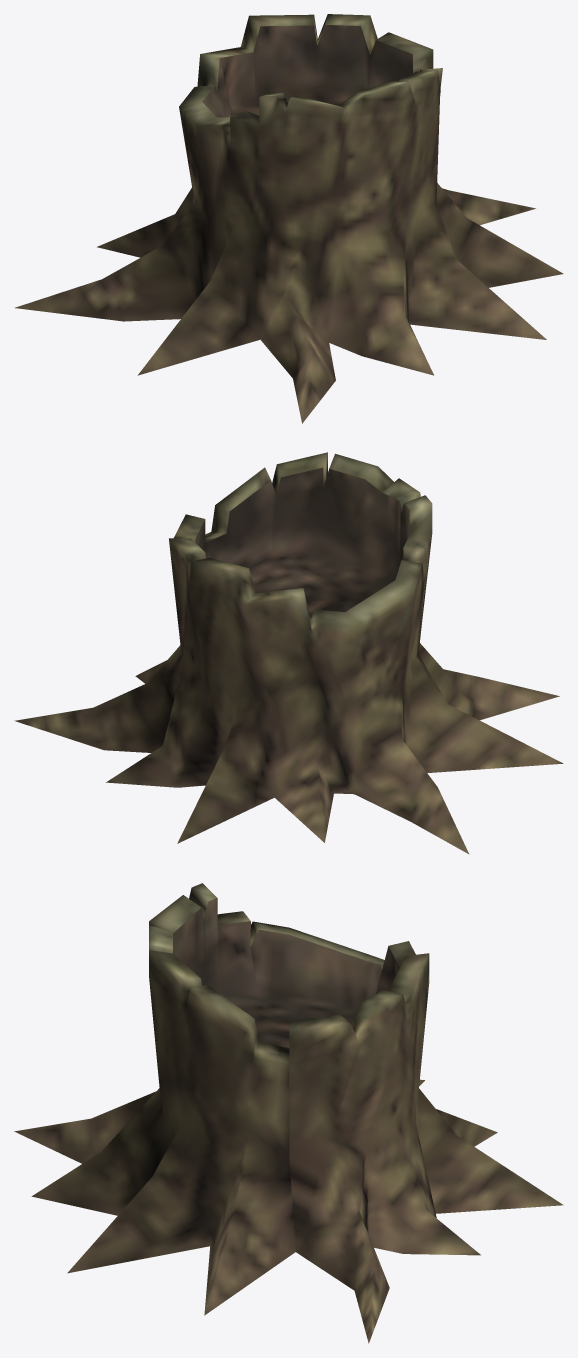
File: Scene_Tree_01.FBX
3 renders of one model, top to bottom at view 1: azimuth 30°, elevation 25°; view 2: azimuth 150°, elevation 25°; view 3: azimuth 270°, elevation 25°, orthographic. The views are drawn at different scales.
Parts seen in each view (by area): view 1: Scene_Tree_01; view 2: Scene_Tree_01; view 3: Scene_Tree_01.
Part boxes in pixels (x1,y1,x2,y2): Scene_Tree_01: (15,14,563,423); Scene_Tree_01: (14,452,563,854); Scene_Tree_01: (14,883,563,1343).
Size of the model in its own units: 6.18 by 3.06 by 5.5.
